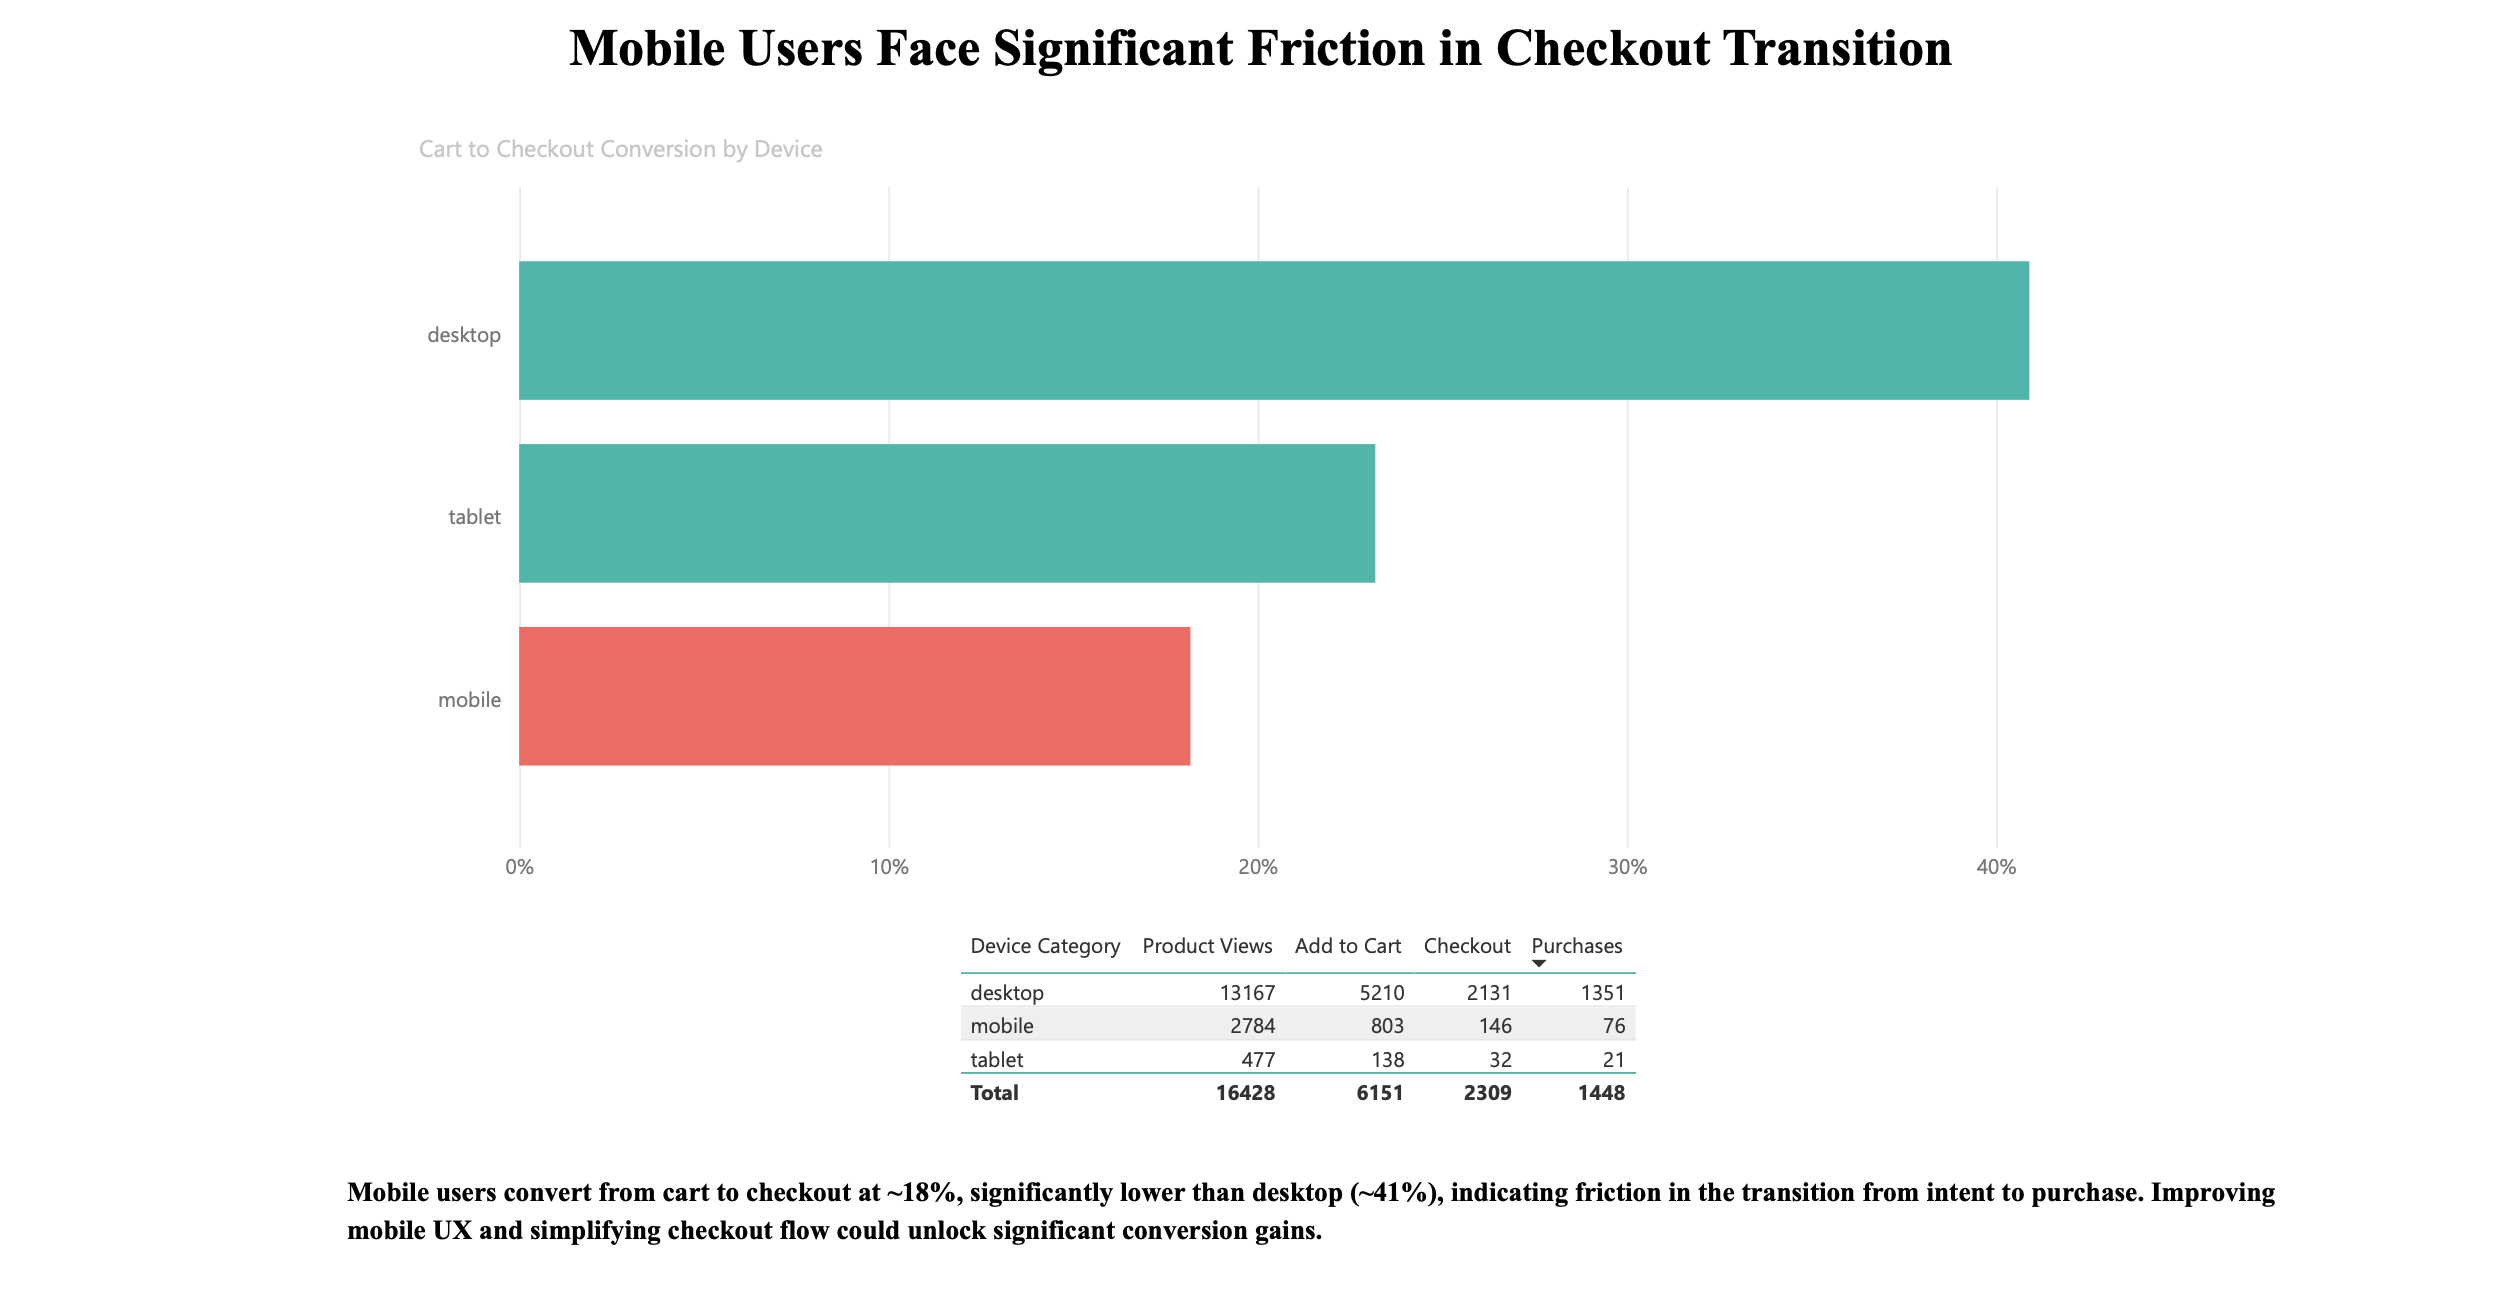

This screenshot's page, from the dashboard's own definition file:
{"tool":"powerbi","page":{"name":"Device_Analysis","canvas":[1280,720],"ordinal":1},"visuals":[{"type":"textbox","box":[10.7,0,1269.3,53.3],"z":0},{"type":"tableEx","fields":{"Values":["funnel_overall.deviceCategory","Sum(funnel_overall.product_view)","Sum(funnel_overall.add_to_cart)","Sum(funnel_overall.checkout)","Sum(funnel_overall.purchase)"]},"box":[486.4,465.1,375.5,104.5],"z":2000},{"type":"clusteredBarChart","title":"Cart to Checkout Conversion by Device","fields":{"Category":["funnel_overall.deviceCategory"],"Y":["funnel_overall.Cart to Checkout Conversion"]},"box":[210,62.9,921.7,392.7],"z":2001},{"type":"textbox","box":[173.2,590,996.5,74.7],"z":2002}]}

Visuals, with their boxes on the page's 1280x720 design canvas (x1, y1, x2, y2). These are canvas units, not pixel positions in the 2500x1308 screenshot, which may show the page scaled, cropped or inside an application window:
textbox: BBox(11, 0, 1280, 53)
tableEx - funnel_overall.deviceCategory x Sum(funnel_overall.product_view): BBox(486, 465, 862, 570)
"Cart to Checkout Conversion by Device" clusteredBarChart: BBox(210, 63, 1132, 456)
textbox: BBox(173, 590, 1170, 665)
